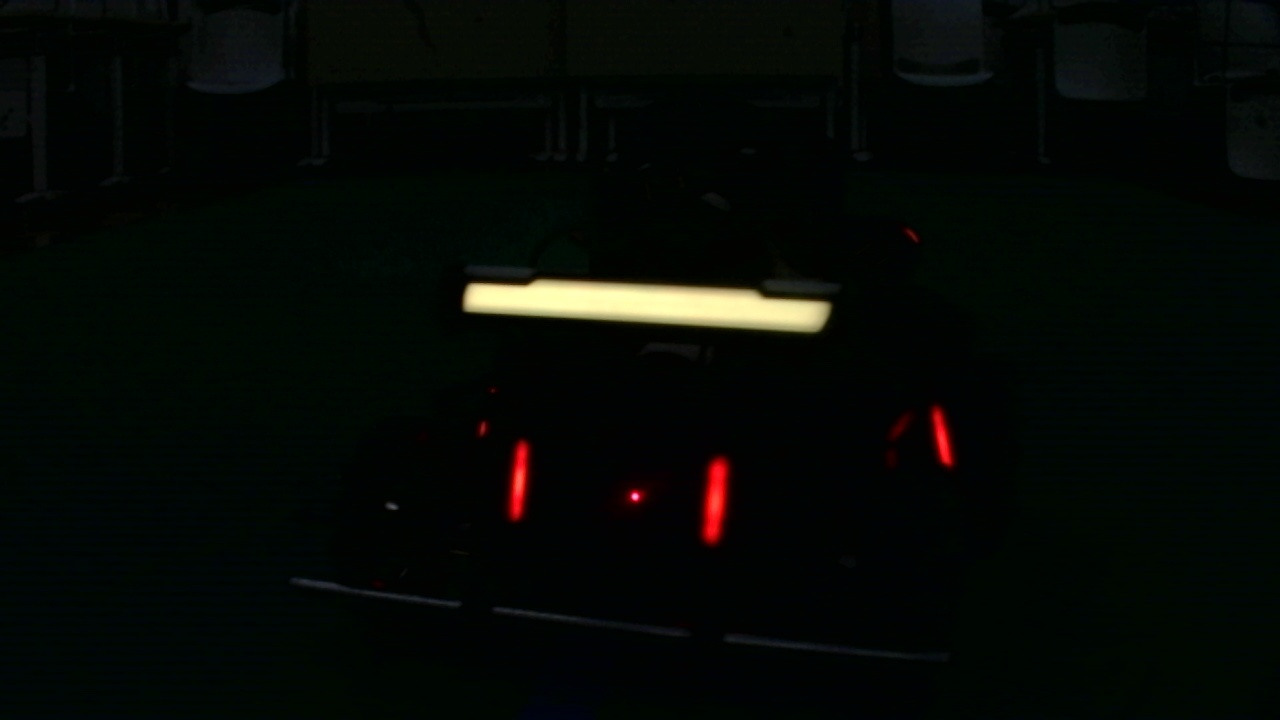lamp: (928, 398, 955, 468), (705, 456, 725, 540), (508, 438, 525, 519)
notpair1: (702, 402, 959, 552)
pair1: (508, 447, 732, 542)
